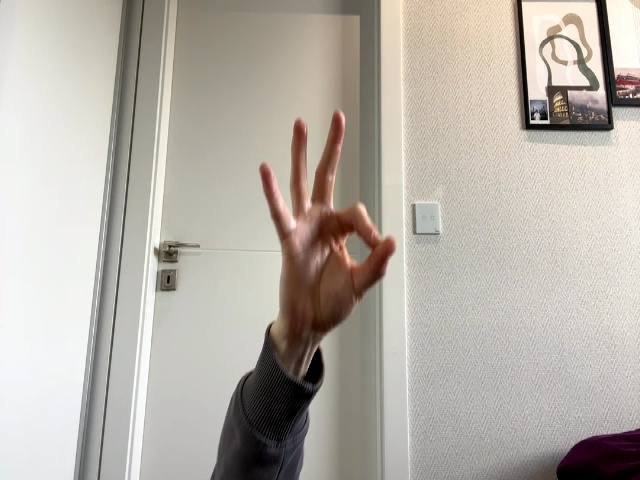O: (259, 109, 396, 325)
